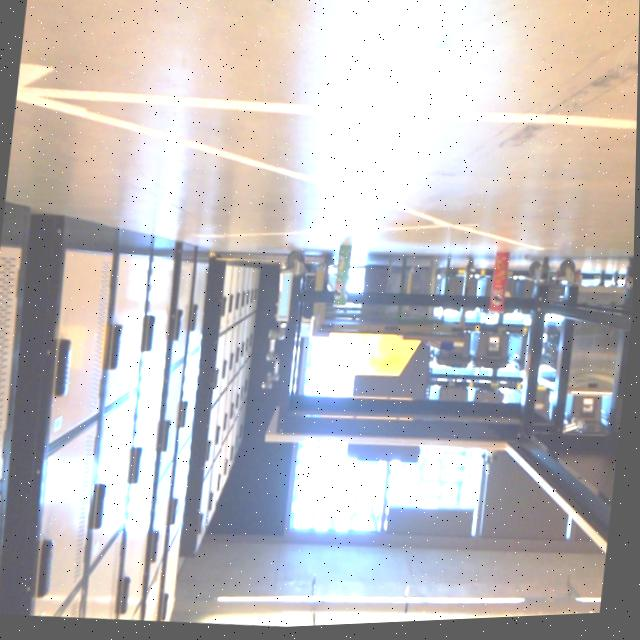greenpringles: (328, 234, 365, 319)
redpringles: (483, 244, 519, 324)
